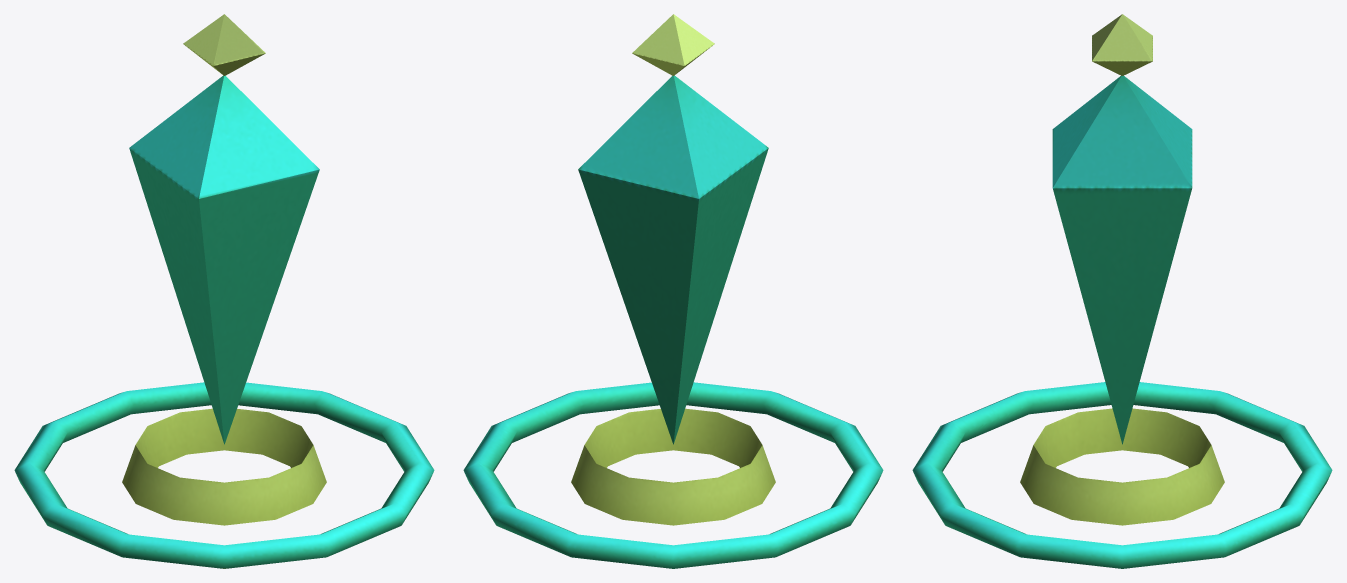
File: terrainflag.fbx
The picture shows the model from 3 angles, left to right: view 1: azimuth 30°, elevation 25°; view 2: azimuth 150°, elevation 25°; view 3: azimuth 270°, elevation 25°; orthographic projection.
Parts seen in each view (by area): view 1: cursor; view 2: cursor; view 3: cursor.
Part boxes in pixels (x1=…): cursor: x1=14, y1=14, x2=434, y2=568; cursor: x1=463, y1=14, x2=883, y2=568; cursor: x1=912, y1=14, x2=1332, y2=568.
Bounding box in the file's own units: 45.81 × 56.39 × 45.81.
1 material, 1 textured.
